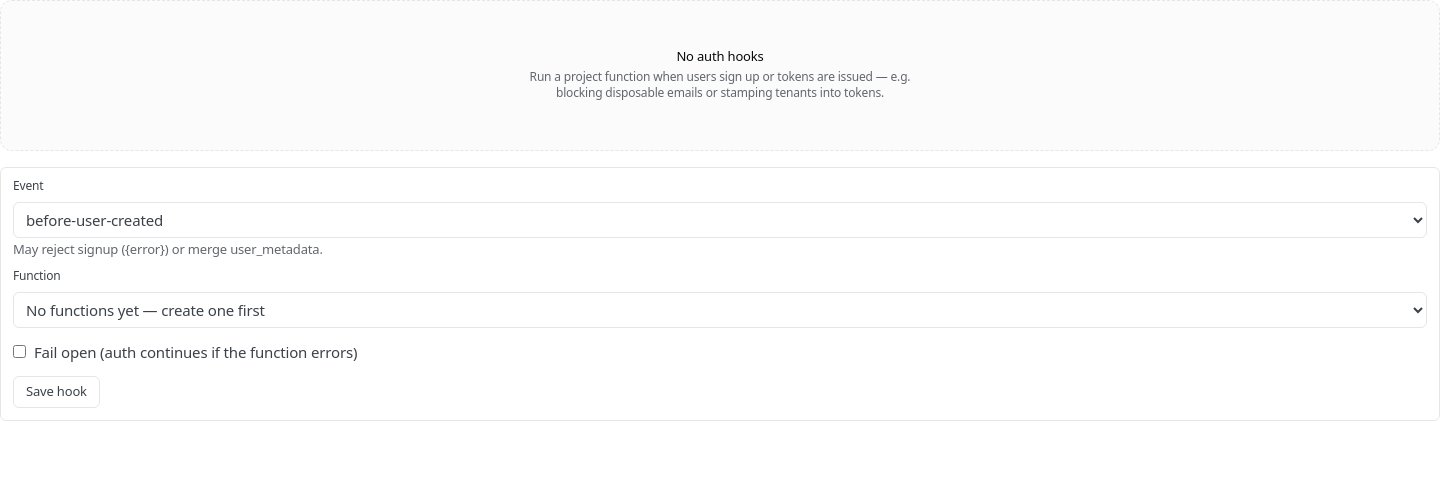
AuthHooksPanel › requires a function before saving
This screenshot has width=1440, height=487.
expect the text "No auth hooks" is shown: met, box [676,49,764,65]
Click the button "Save hook".
click(56, 392)  # box [13,376,100,408]
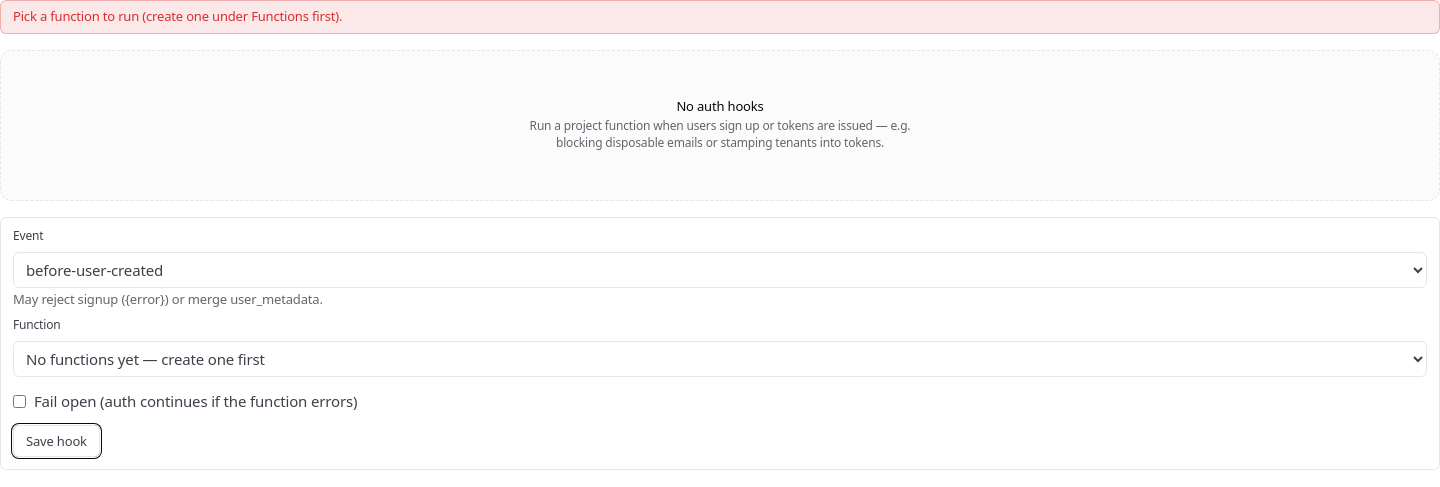
expect the text "Pick a function to run (create one under Functions first)." is shown: met, box [0,0,1439,34]
